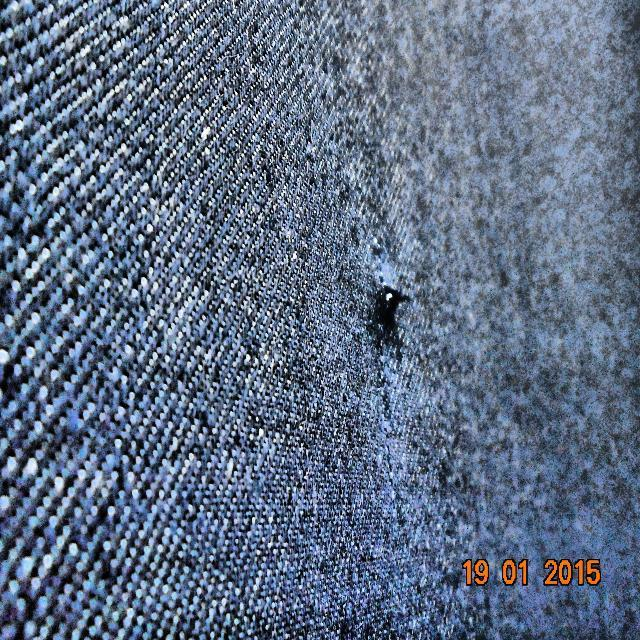cut: (360, 266, 433, 353)
